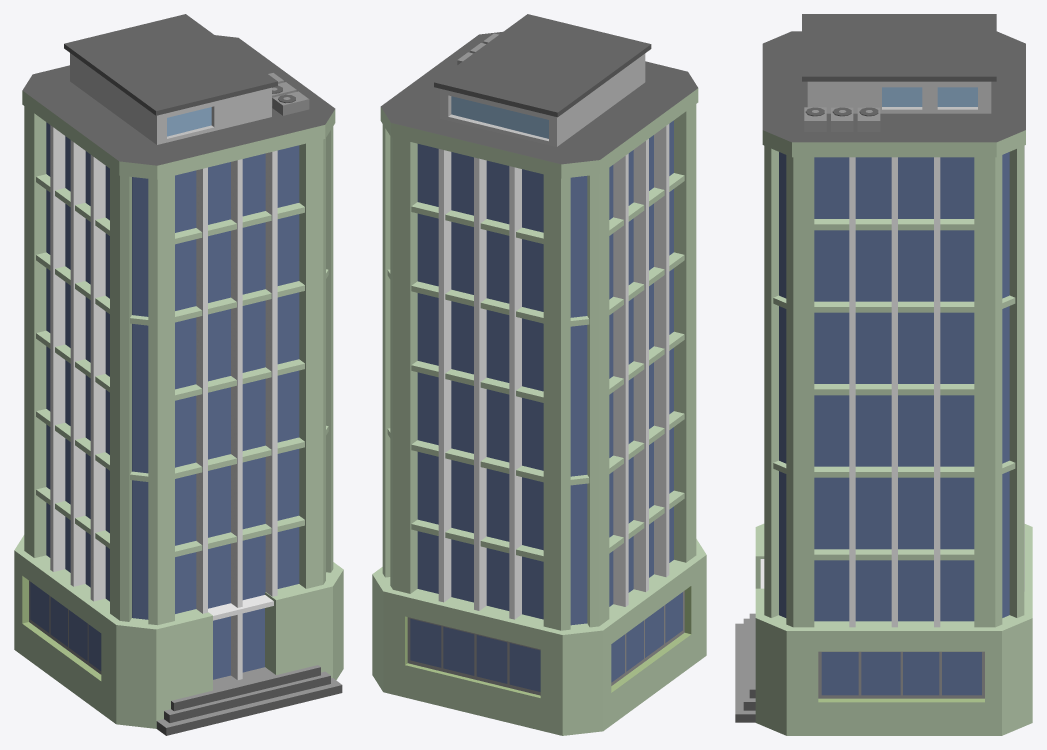
Rendered from house_middle_003.fbx.
3 views of the same model, side by side, from view 1: azimuth 30°, elevation 25°; view 2: azimuth 150°, elevation 25°; view 3: azimuth 270°, elevation 25° (orthographic). The views are drawn at different scales.
Parts seen in each view (by area): view 1: house_middle_003; view 2: house_middle_003; view 3: house_middle_003.
Boxes of the visible parts, x1=… form: house_middle_003: x1=14, y1=14, x2=343, y2=735; house_middle_003: x1=372, y1=14, x2=706, y2=735; house_middle_003: x1=735, y1=14, x2=1032, y2=735.
Size of the model in its own units: 758 by 1898 by 813.
